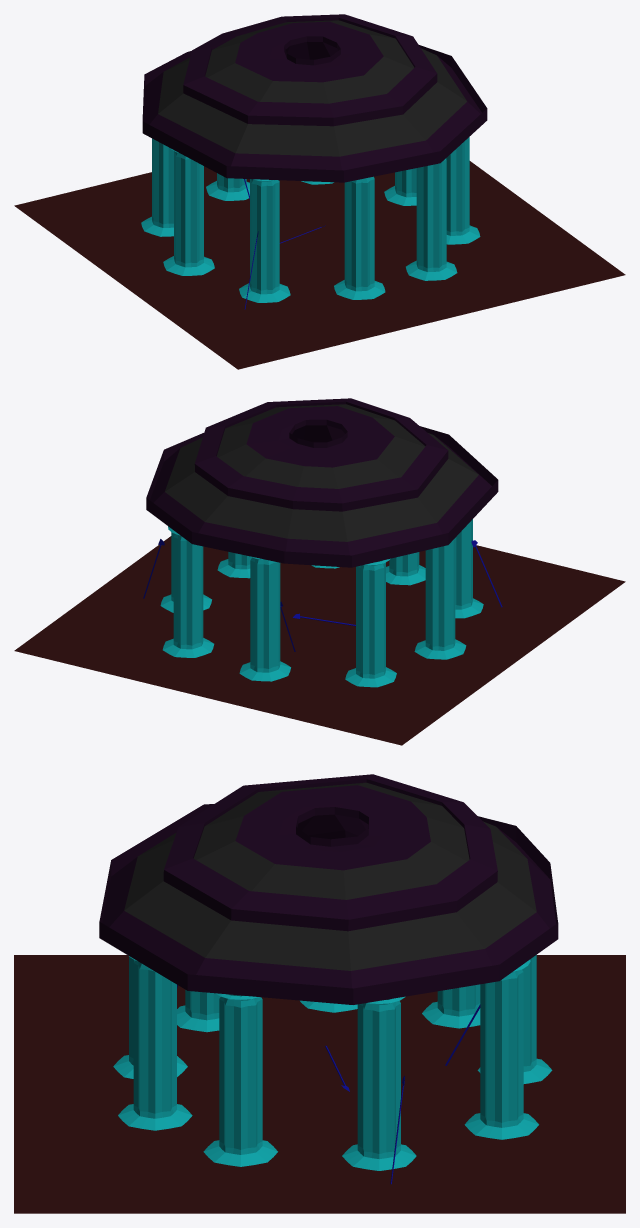
The model's file is SpearYard.obj.
The picture shows the model from 3 angles, top to bottom: view 1: azimuth 30°, elevation 25°; view 2: azimuth 150°, elevation 25°; view 3: azimuth 270°, elevation 25°; orthographic projection. The views are drawn at different scales.
Parts seen in each view (by area): view 1: Plane, Plane.012_Plane.013, Plane.003_Plane.014, Plane.001_Plane.012, Plane.004_Plane.015, Plane.002, Plane.005_Plane.016, Plane.009_Plane.020, Plane.006_Plane.017, Plane.008_Plane.019; view 2: Plane, Plane.012_Plane.013, Plane.008_Plane.019, Plane.009_Plane.020, Plane.007_Plane.018, Plane.002, Plane.001_Plane.012, Plane.003_Plane.014, Plane.005_Plane.016, Plane.006_Plane.017; view 3: Plane, Plane.012_Plane.013, Plane.005_Plane.016, Plane.006_Plane.017, Plane.007_Plane.018, Plane.004_Plane.015, Plane.008_Plane.019, Plane.009_Plane.020, Plane.001_Plane.012, Plane.003_Plane.014.
Boxes of the visible parts, box(x1,y1,x2,y2) form: Plane: box(14, 161, 625, 369); Plane.012_Plane.013: box(142, 14, 487, 182); Plane.003_Plane.014: box(334, 176, 385, 299); Plane.001_Plane.012: box(239, 179, 290, 302); Plane.004_Plane.015: box(406, 158, 457, 280); Plane.002: box(163, 148, 214, 275); Plane.005_Plane.016: box(446, 137, 480, 244); Plane.009_Plane.020: box(141, 138, 173, 236); Plane.006_Plane.017: box(384, 168, 416, 205); Plane.008_Plane.019: box(206, 173, 249, 200); Plane: box(14, 536, 625, 745); Plane.012_Plane.013: box(146, 398, 498, 567); Plane.008_Plane.019: box(239, 556, 290, 681); Plane.009_Plane.020: box(345, 558, 396, 687); Plane.007_Plane.018: box(162, 526, 214, 657); Plane.002: box(414, 538, 466, 659); Plane.001_Plane.012: box(455, 519, 483, 618); Plane.003_Plane.014: box(386, 552, 425, 585); Plane.005_Plane.016: box(217, 552, 251, 578); Plane.006_Plane.017: box(160, 532, 211, 612); Plane: box(14, 955, 625, 1213); Plane.012_Plane.013: box(99, 774, 558, 1004); Plane.005_Plane.016: box(203, 993, 277, 1166); Plane.006_Plane.017: box(342, 996, 416, 1170); Plane.007_Plane.018: box(464, 959, 538, 1139); Plane.004_Plane.015: box(118, 956, 192, 1130); Plane.008_Plane.019: box(477, 955, 552, 1083); Plane.009_Plane.020: box(422, 984, 480, 1028); Plane.001_Plane.012: box(177, 990, 220, 1032); Plane.003_Plane.014: box(113, 957, 187, 1078).
Bounding box in the file's own units: 1.33 × 0.6238 × 1.33.
